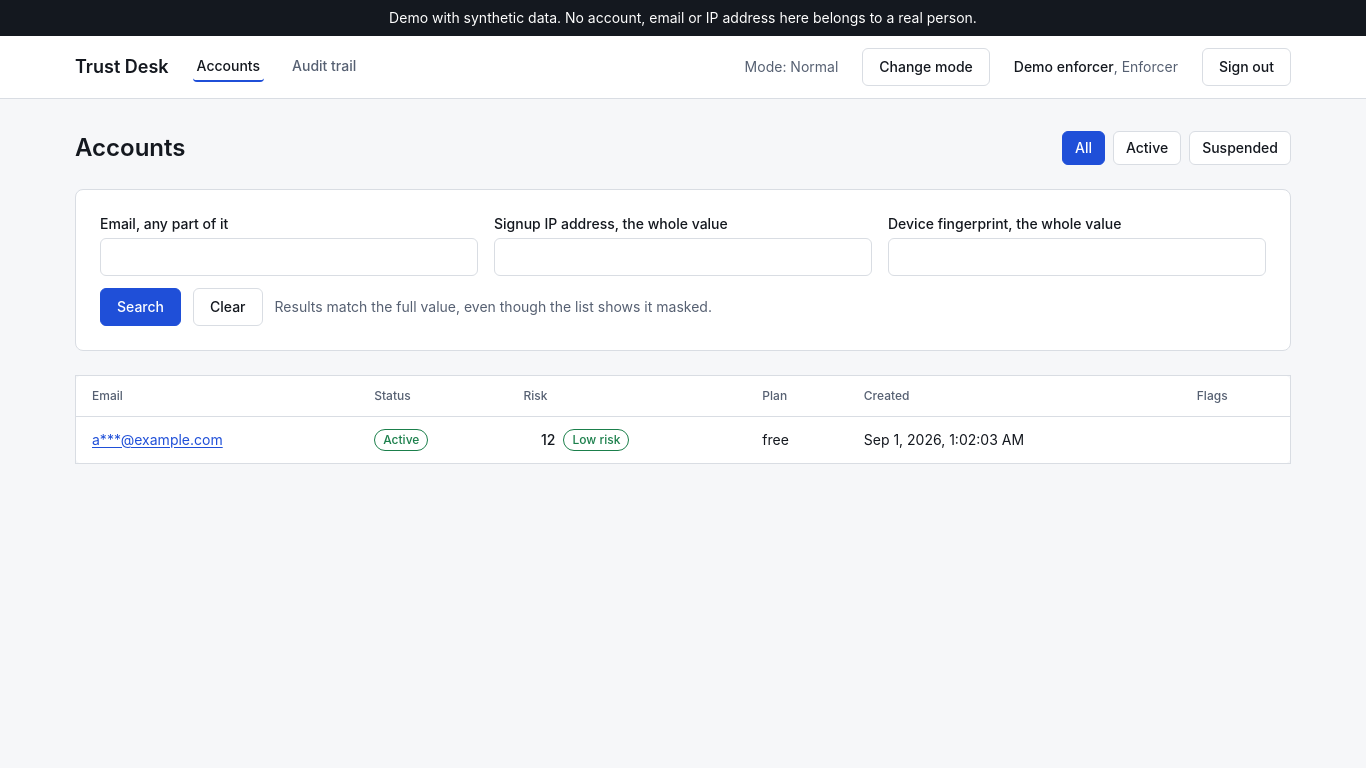
Test: ModeChangeDialog › needs both a mode and a reason before it submits
The image size is (1366, 768).
Check: the text "Mode: Normal" is shown, box 745,57 -> 838,77
Click the button "Change mode": [926, 67] box 862,48 -> 990,86
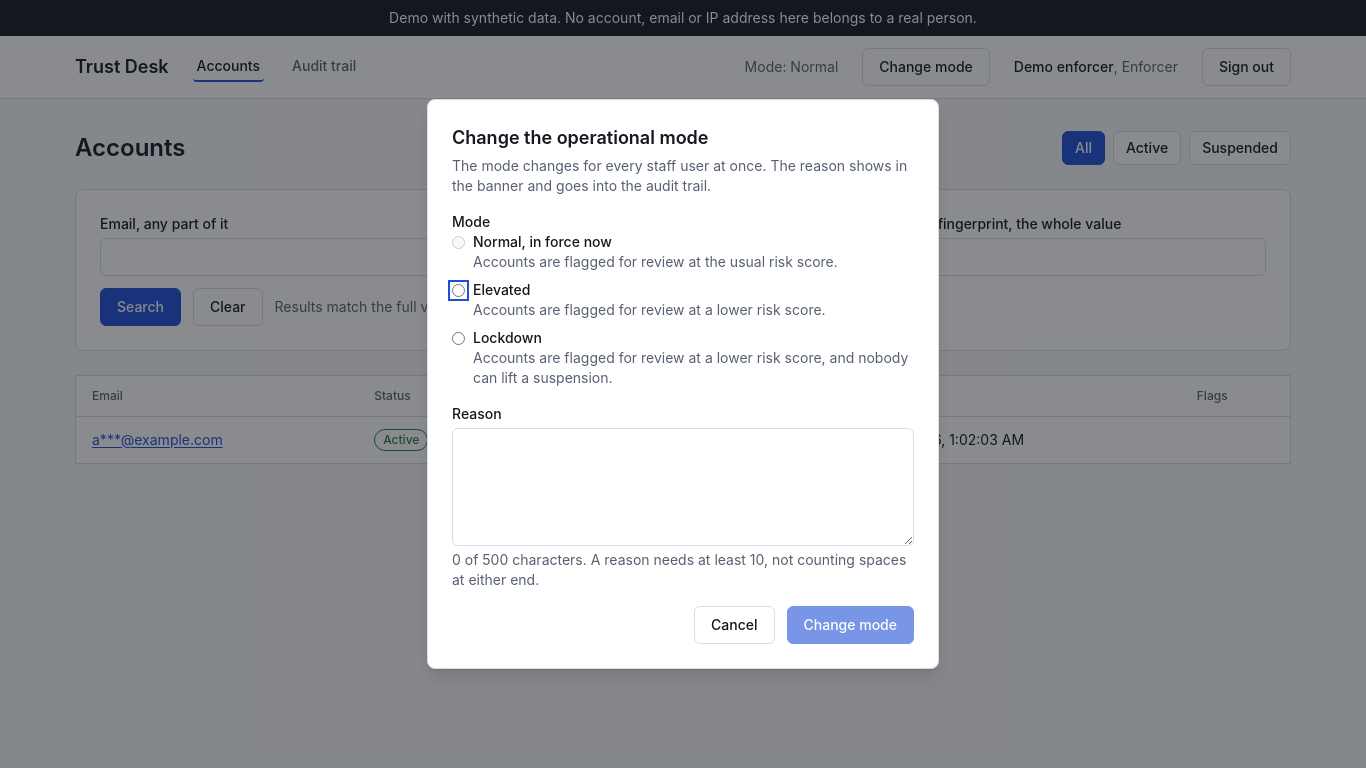
In the text box labelled "Reason": [683, 487] box 452,428 -> 914,546, type "Signup burst from one network in the last hour."
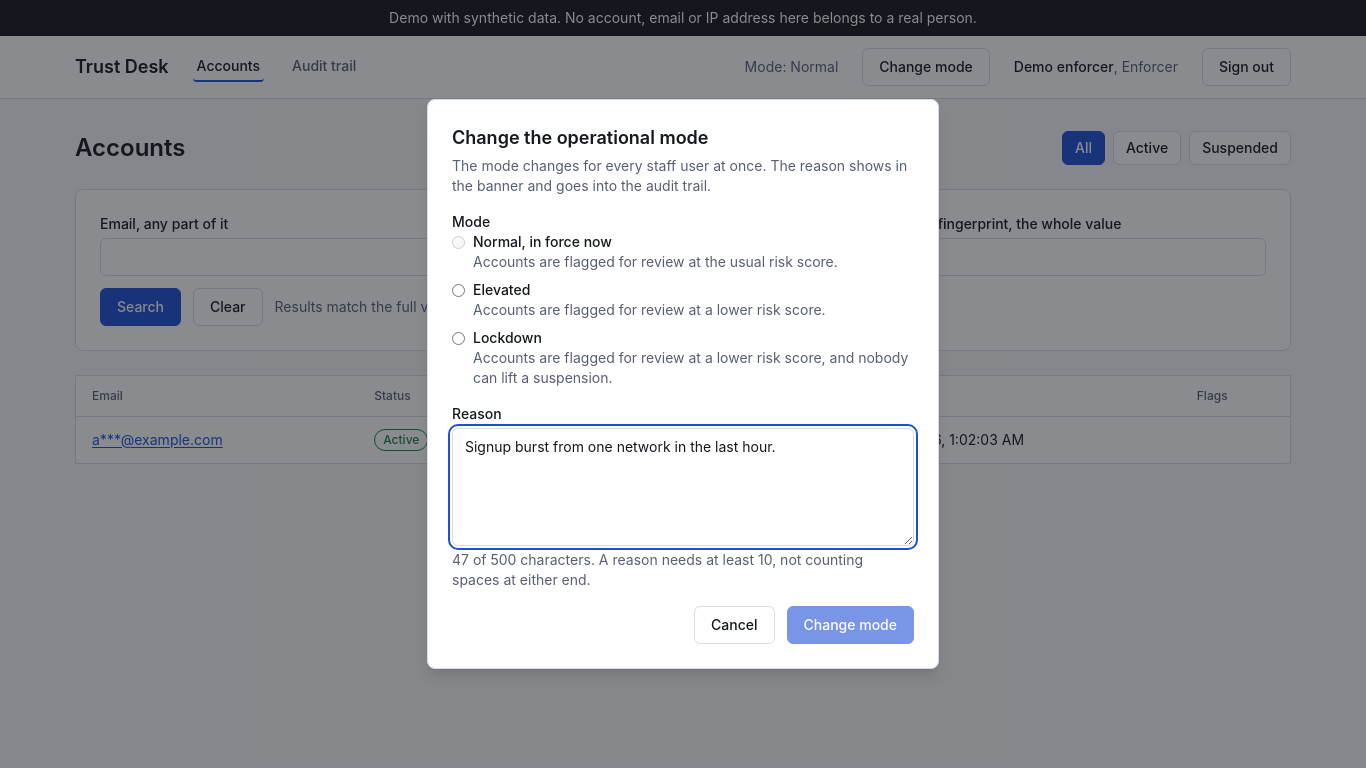
Check: the button "Change mode" is disabled, box 786,606 -> 914,644
Click the radio button labelled "Elevated": [458, 290] box 452,284 -> 465,297
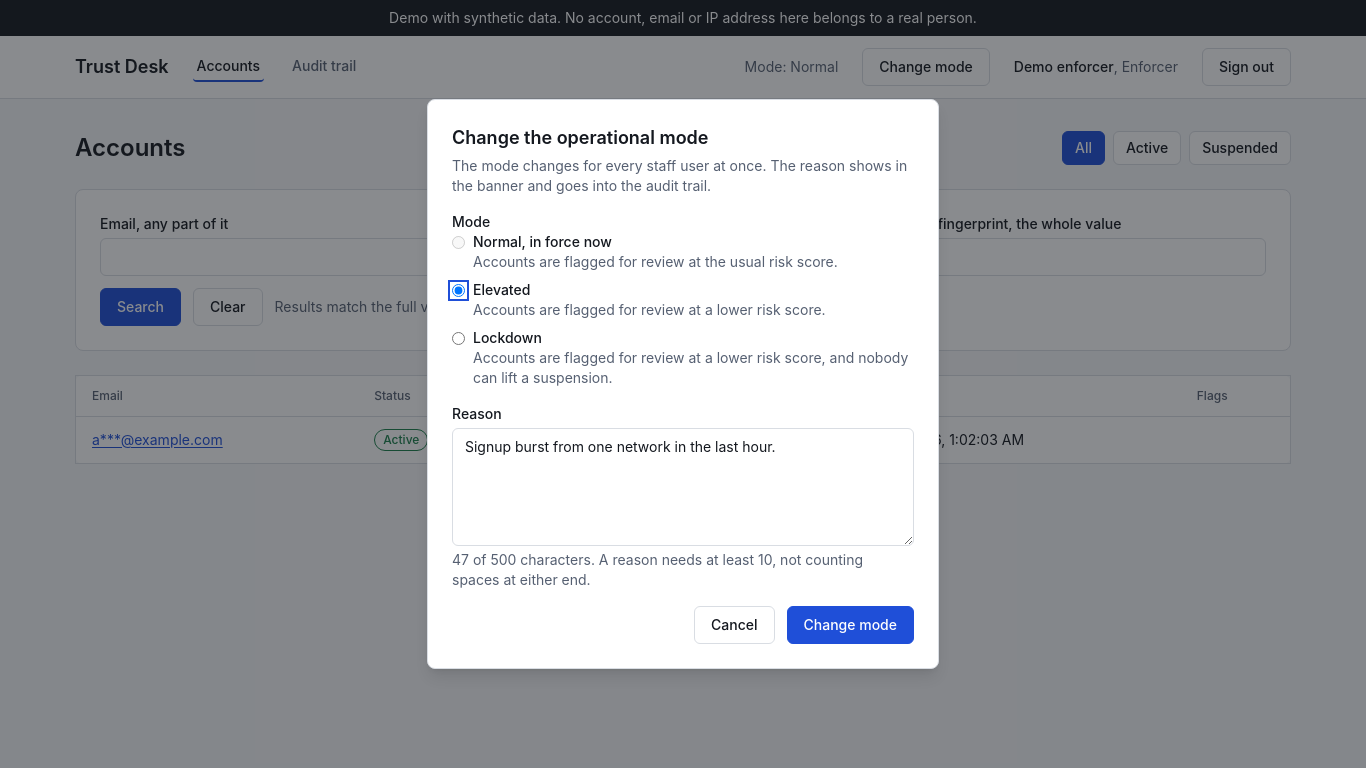
Check: the button "Change mode" is enabled, box 786,606 -> 914,644
